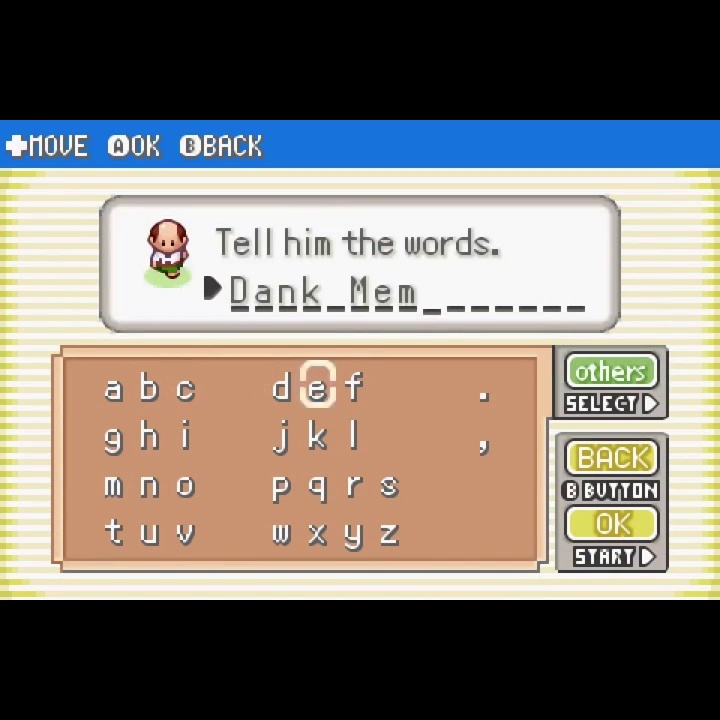npc: (144, 216, 192, 282)
